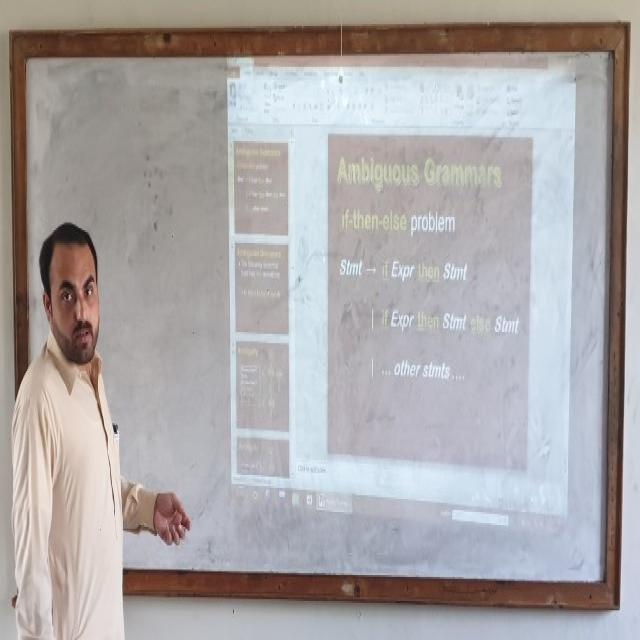Instructor: (8, 221, 130, 640)
Slide: (227, 40, 576, 533)
White-board: (19, 42, 623, 605)
